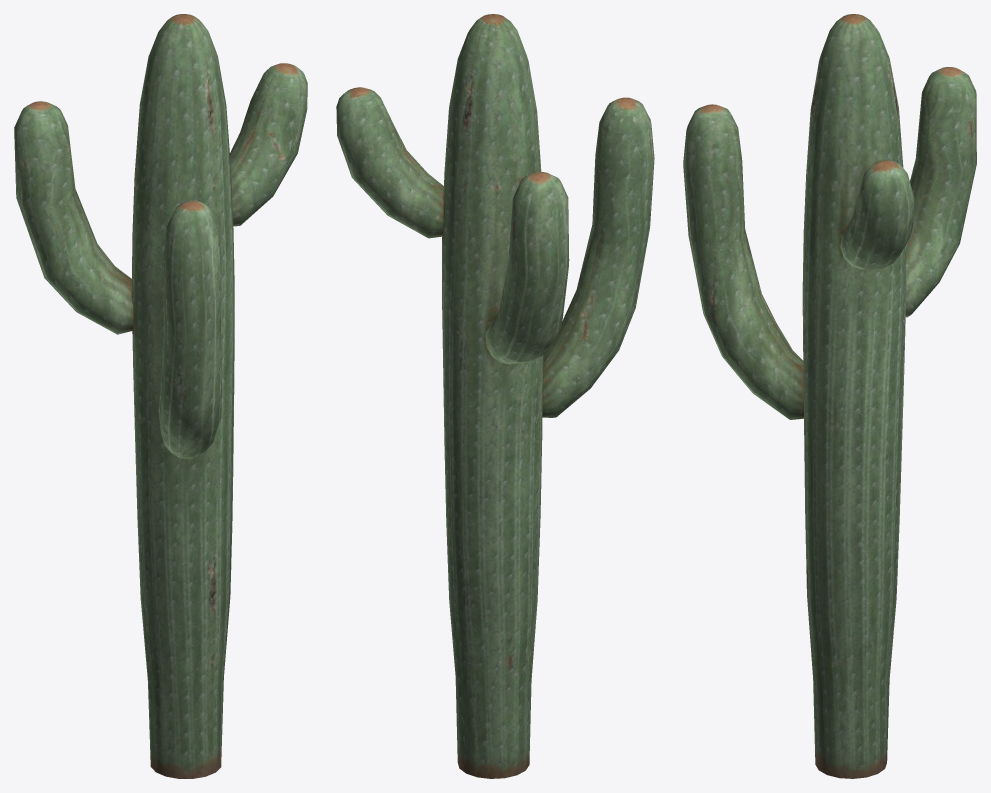
File: Carnegiea_Saguaro_Spring_Young.glb
3 views of the same model, side by side, from view 1: azimuth 30°, elevation 25°; view 2: azimuth 150°, elevation 25°; view 3: azimuth 270°, elevation 25° (orthographic).
Parts seen in each view (by area): view 1: Carnegiea_Saguaro_Spring_Young__LOD3; view 2: Carnegiea_Saguaro_Spring_Young__LOD3; view 3: Carnegiea_Saguaro_Spring_Young__LOD3.
Part boxes in pixels (<box>): Carnegiea_Saguaro_Spring_Young__LOD3: <box>14,14,307,778</box>; Carnegiea_Saguaro_Spring_Young__LOD3: <box>336,14,654,778</box>; Carnegiea_Saguaro_Spring_Young__LOD3: <box>683,14,976,778</box>.
Size of the model in its own units: 1.33 by 3.72 by 1.33.
1 material, 1 textured.
